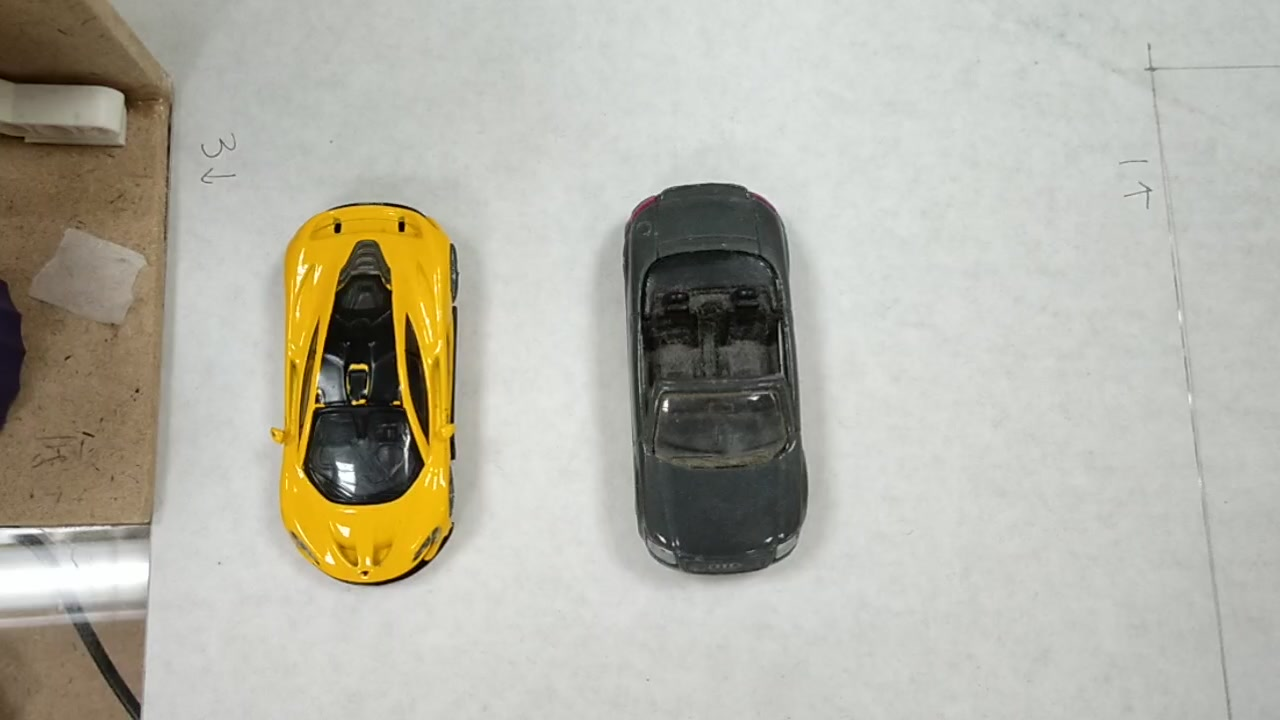car: (273, 210, 465, 582), (631, 191, 792, 571)
